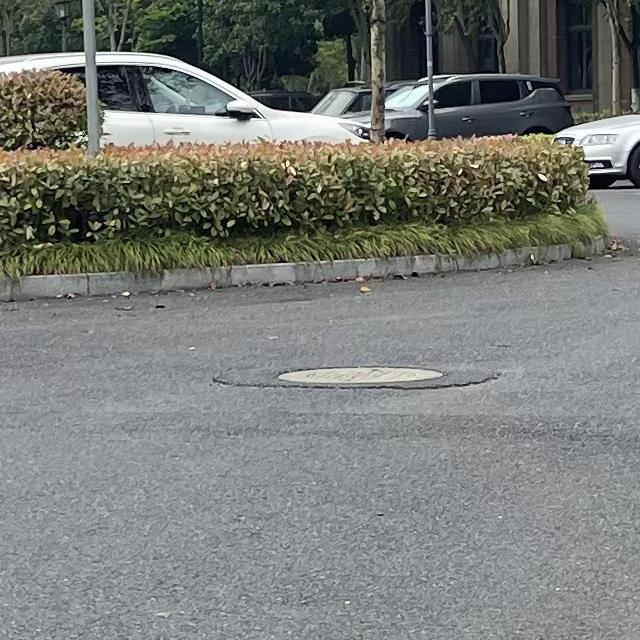curb: (0, 237, 607, 299)
